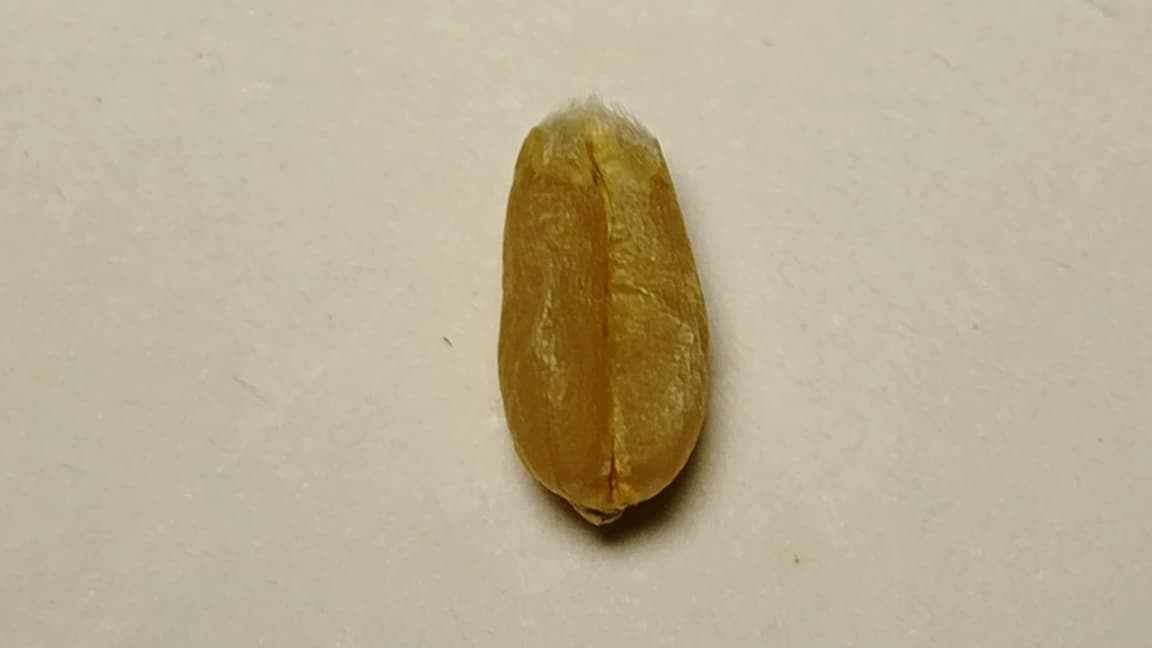healthy: (498, 98, 708, 523)
